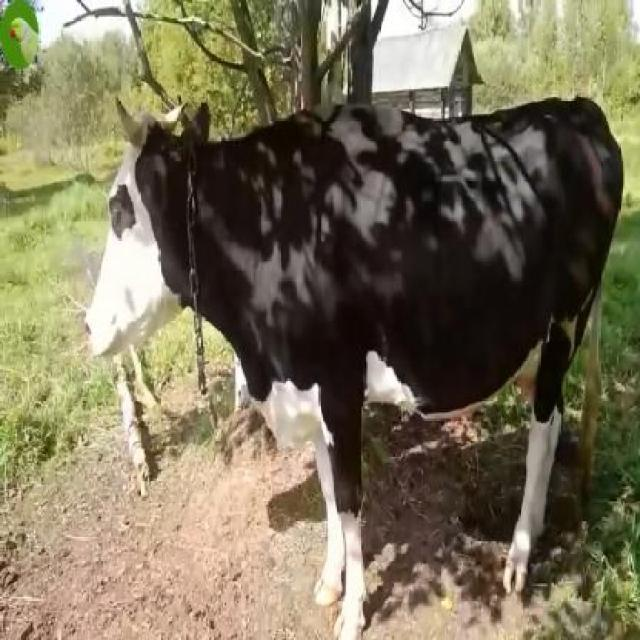Cow: (86, 96, 625, 638)
